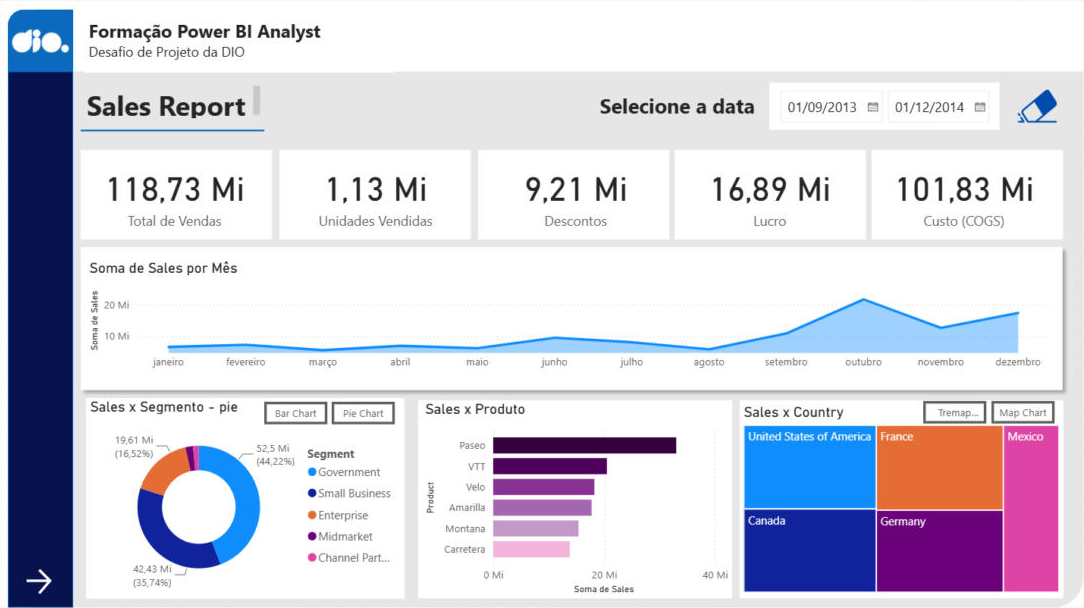

The dashboard page shown, as its layout file describes it:
{"tool":"powerbi","page":{"name":"Página 1","canvas":[1280,720],"ordinal":0},"visuals":[{"type":"shape","box":[10,12.8,1270,707],"z":0},{"type":"slicer","fields":{"Values":["financials.Date"]},"box":[909.4,99.8,272.2,55.6],"z":0,"group":"g2"},{"type":"shape","box":[95.5,139.7,216.7,32.8],"z":0,"group":"g5"},{"type":"shape","box":[95.5,179.2,226.5,105.7],"z":0,"group":"g1"},{"type":"donutChart","title":"Sales x Segmento - pie","fields":{"Y":["Sum(financials. Sales)"],"Category":["financials.Segment"]},"box":[102.6,471.8,376.3,236.6],"z":0,"group":"g4"},{"type":"map","title":"Sales x Country","fields":{"Category":["financials.Country"],"Size":["Sum(financials. Sales)"]},"box":[873.8,476,382,228.1],"z":0,"group":"g3"},{"type":"actionButton","title":"Botão - bar","box":[312.8,476.4,74.5,26.6],"z":500,"group":"g4"},{"type":"actionButton","title":"Botão -pie","box":[392.6,476.4,74.5,26.6],"z":750,"group":"g4"},{"type":"shape","box":[10.1,13.4,77.2,706.3],"z":1000},{"type":"textbox","box":[96.9,98.4,215.2,48.5],"z":1000,"group":"g5"},{"type":"textbox","box":[704.1,105.5,199.6,45.6],"z":1000,"group":"g2"},{"type":"shape","box":[330.2,179.2,226.5,105.7],"z":1000,"group":"g1"},{"type":"treemap","title":"Sales x Country","fields":{"Group":["financials.Country"],"Values":["Sum(financials. Sales)"]},"box":[873.8,477.5,382,228.1],"z":1000,"group":"g3"},{"type":"actionButton","title":"Botão - map","box":[1170.8,475.2,74.5,26.6],"z":1250,"group":"g3"},{"type":"actionButton","title":"Botão - tremap","box":[1090.9,475.2,74.5,26.6],"z":1500,"group":"g3"},{"type":"shape","box":[10.1,13.4,77.2,73.8],"z":2000},{"type":"actionButton","box":[1195.9,104.1,59.9,51.3],"z":2000,"group":"g2"},{"type":"shape","box":[565.1,179.2,226.5,105.7],"z":2000,"group":"g1"},{"type":"image","title":"logo_dio","box":[10.1,18.5,77.2,62.1],"z":3000},{"type":"image","title":"clean","box":[1195.9,99.8,59.9,55.6],"z":3000,"group":"g2"},{"type":"shape","box":[796.6,179.2,226.5,105.7],"z":3000,"group":"g1"},{"type":"shape","box":[86.9,12.8,1193.1,74.1],"z":4000},{"type":"shape","box":[1029.7,179.2,226.5,105.7],"z":4000,"group":"g1"},{"type":"textbox","box":[100.7,18.5,365.7,68.8],"z":5000},{"type":"card","fields":{"Values":["Sum(financials. Sales)"]},"box":[101.2,179.6,211,105.5],"z":5000,"group":"g1"},{"type":"group","id":"g1","title":"Cartões","box":[95.5,179.2,1160.7,105.9],"z":6000},{"type":"card","fields":{"Values":["Sum(financials.Units Sold)"]},"box":[337.9,179.6,211,105.5],"z":6000,"group":"g1"},{"type":"card","fields":{"Values":["Sum(financials.Profit)"]},"box":[804,179.6,211,105.5],"z":7000,"group":"g1"},{"type":"shape","box":[86.9,285.1,1177.4,186.7],"z":7000},{"type":"card","fields":{"Values":["Sum(financials.Discounts)"]},"box":[574.5,179.6,211,105.5],"z":8000,"group":"g1"},{"type":"shape","box":[494.6,474.7,370.6,233.8],"z":8000},{"type":"card","fields":{"Values":["Sum(financials.COGS)"]},"box":[1033.4,179.6,211,105.5],"z":9000,"group":"g1"},{"type":"shape","box":[873.8,474.7,382,233.8],"z":9000},{"type":"areaChart","fields":{"Category":["financials.Date.Variation.Hierarquia de datas.Mês"],"Y":["Sum(financials. Sales)"]},"box":[101.2,307.9,1143.2,139.7],"z":10000},{"type":"clusteredBarChart","title":"Sales x Produto","fields":{"Y":["Sum(financials. Sales)"],"Category":["financials.Product"]},"box":[498.3,474.5,366.9,233.8],"z":11000},{"type":"group","id":"g2","title":"Filtro por data","box":[704.1,99.8,551.6,55.6],"z":12000},{"type":"group","id":"g3","title":"Sales x país","box":[873.8,475.2,382,230.3],"z":13000},{"type":"group","id":"g4","title":"Sales x Segmento","box":[96,471.8,382.9,236.8],"z":14000},{"type":"group","id":"g5","title":"Title report","box":[95.5,98.4,216.7,74.1],"z":15000},{"type":"actionButton","box":[25.9,669,48.8,39.6],"z":16000}]}

Visuals, with their boxes on the page's 1280x720 design canvas (x1, y1, x2, y2). These are canvas units, not pixel positions in the 1084x608 screenshot, which may show the page scaled, cropped or inside an application window:
shape: rect(10, 13, 1280, 720)
slicer - financials.Date: rect(909, 100, 1182, 155)
shape: rect(96, 140, 312, 172)
shape: rect(96, 179, 322, 285)
"Sales x Segmento - pie" donutChart: rect(103, 472, 479, 708)
"Sales x Country" map: rect(874, 476, 1256, 704)
"Botão - bar" actionButton: rect(313, 476, 387, 503)
"Botão -pie" actionButton: rect(393, 476, 467, 503)
shape: rect(10, 13, 87, 720)
textbox: rect(97, 98, 312, 147)
textbox: rect(704, 106, 904, 151)
shape: rect(330, 179, 557, 285)
"Sales x Country" treemap: rect(874, 478, 1256, 706)
"Botão - map" actionButton: rect(1171, 475, 1245, 502)
"Botão - tremap" actionButton: rect(1091, 475, 1165, 502)
shape: rect(10, 13, 87, 87)
actionButton: rect(1196, 104, 1256, 155)
shape: rect(565, 179, 792, 285)
"logo_dio" image: rect(10, 18, 87, 81)
"clean" image: rect(1196, 100, 1256, 155)
shape: rect(797, 179, 1023, 285)
shape: rect(87, 13, 1280, 87)
shape: rect(1030, 179, 1256, 285)
textbox: rect(101, 18, 466, 87)
card - Sum(financials. Sales): rect(101, 180, 312, 285)
"Cartões" group: rect(96, 179, 1256, 285)
card - Sum(financials.Units Sold): rect(338, 180, 549, 285)
card - Sum(financials.Profit): rect(804, 180, 1015, 285)
shape: rect(87, 285, 1264, 472)
card - Sum(financials.Discounts): rect(574, 180, 786, 285)
shape: rect(495, 475, 865, 708)
card - Sum(financials.COGS): rect(1033, 180, 1244, 285)
shape: rect(874, 475, 1256, 708)
areaChart - financials.Date.Variation.Hierarquia de datas.Mês x Sum(financials. Sales): rect(101, 308, 1244, 448)
"Sales x Produto" clusteredBarChart: rect(498, 474, 865, 708)
"Filtro por data" group: rect(704, 100, 1256, 155)
"Sales x país" group: rect(874, 475, 1256, 706)
"Sales x Segmento" group: rect(96, 472, 479, 709)
"Title report" group: rect(96, 98, 312, 172)
actionButton: rect(26, 669, 75, 709)
